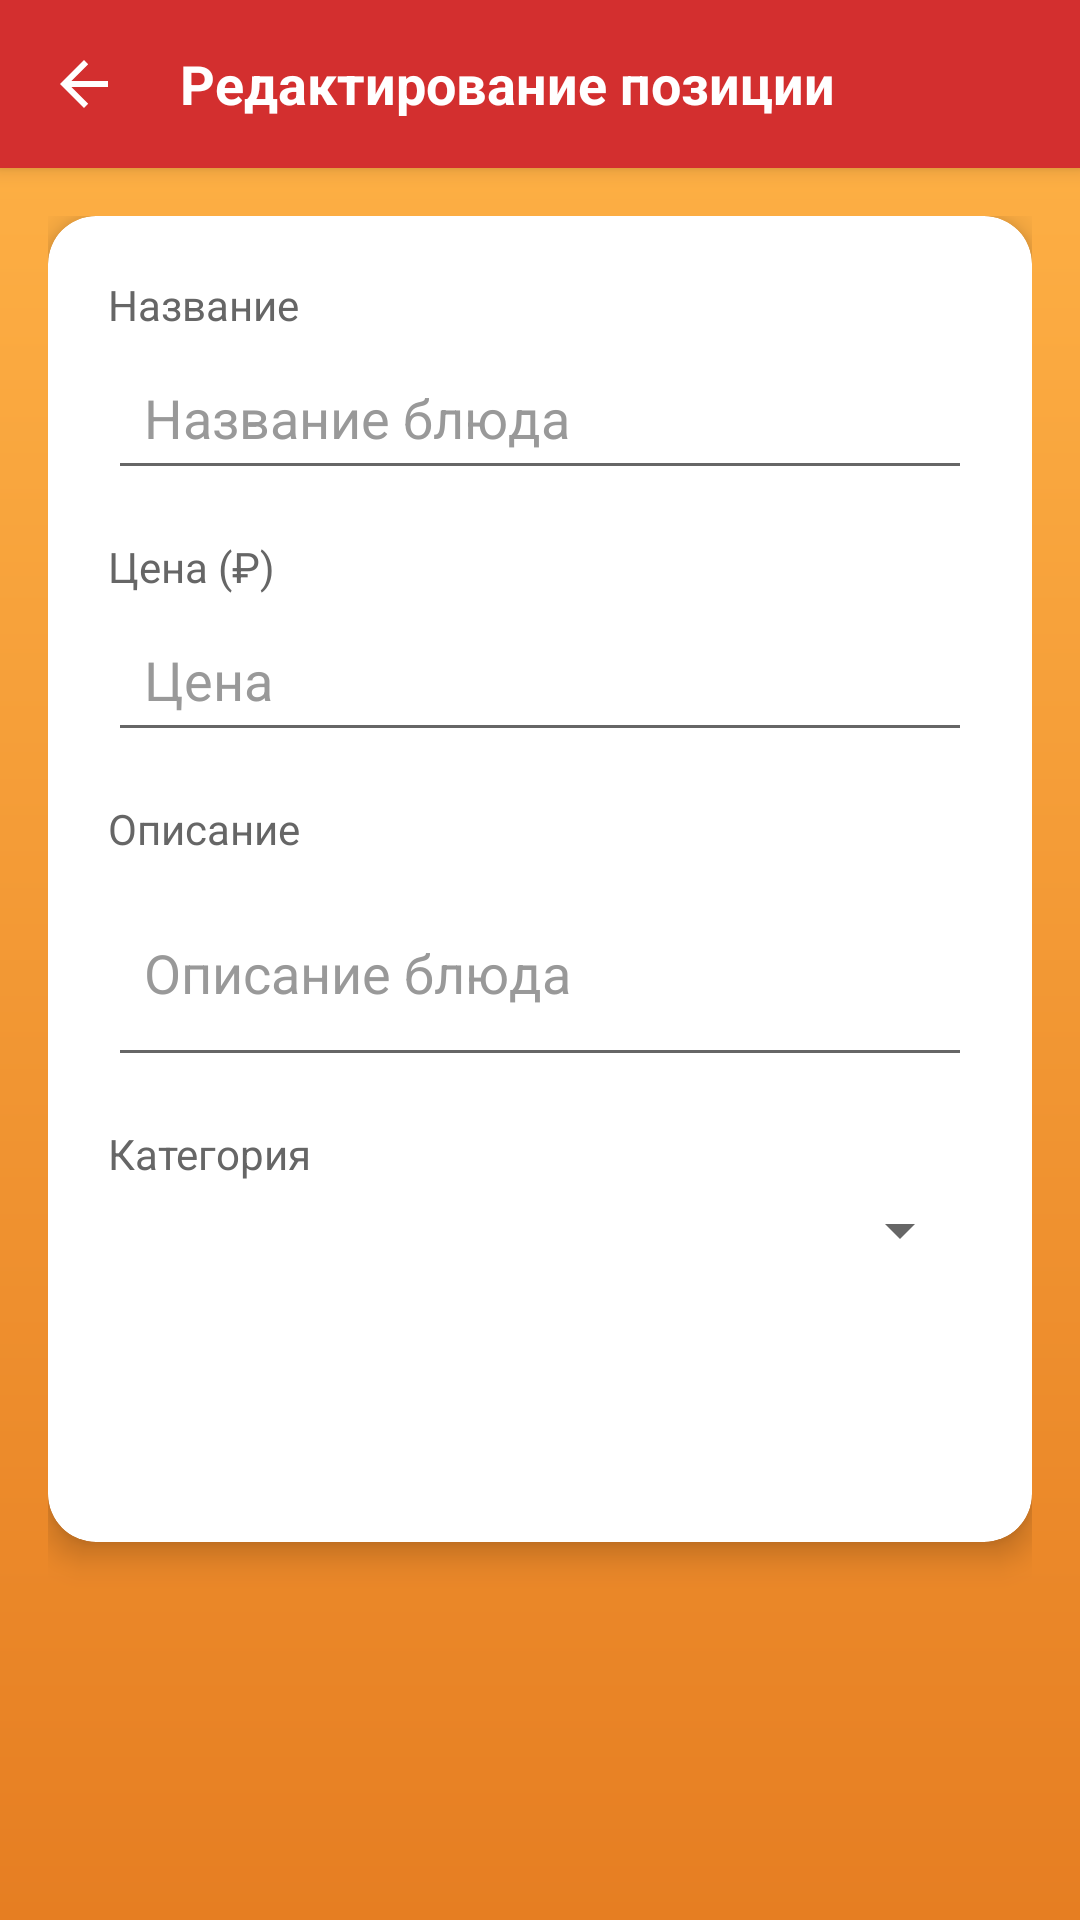

Named icons in this screenshot (1080px×1920px) and their bounding boxes, (x1, y1, x2, y2):
Назад: (60, 60, 108, 108)
